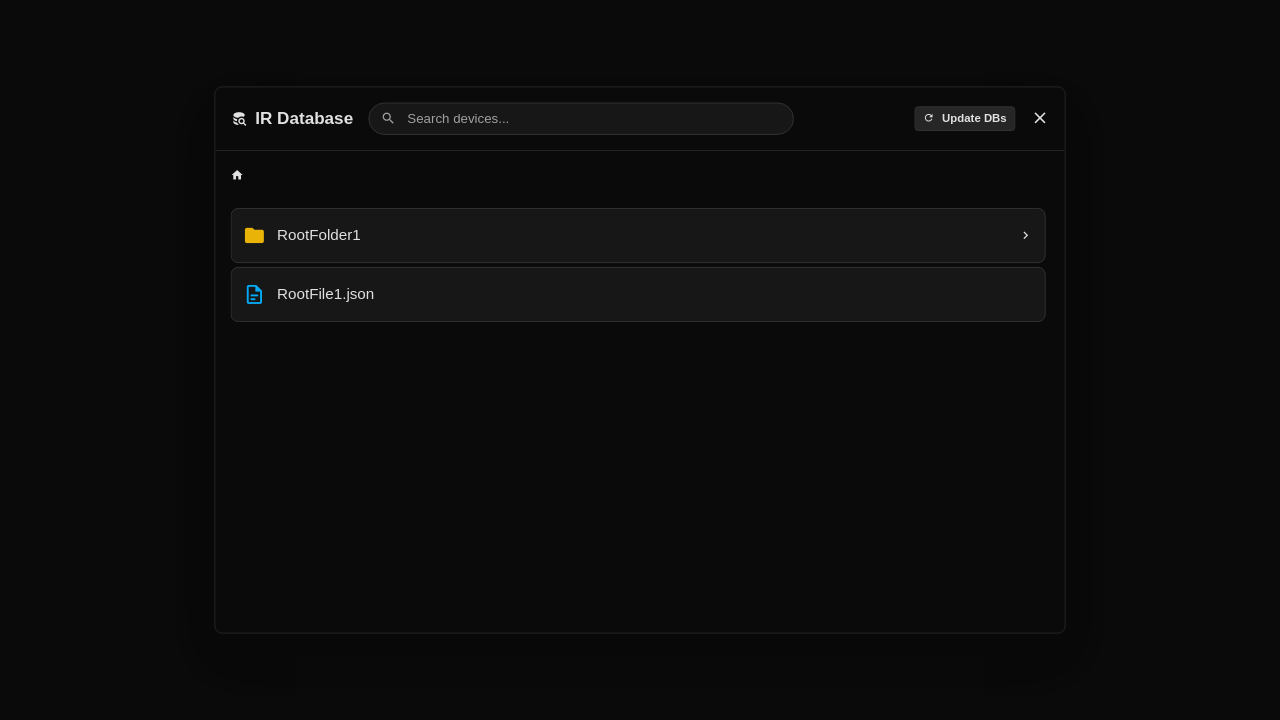
Test: IrDbPicker.vue › updates the path when a file is opened from search results
The width and height of the screenshot is (1280, 720).
Note: Perform a search
In the field with placeholder "Search devices...": (596, 119) x1=400 y1=104 x2=793 y2=134, type "myremote"
Wait 400 ms
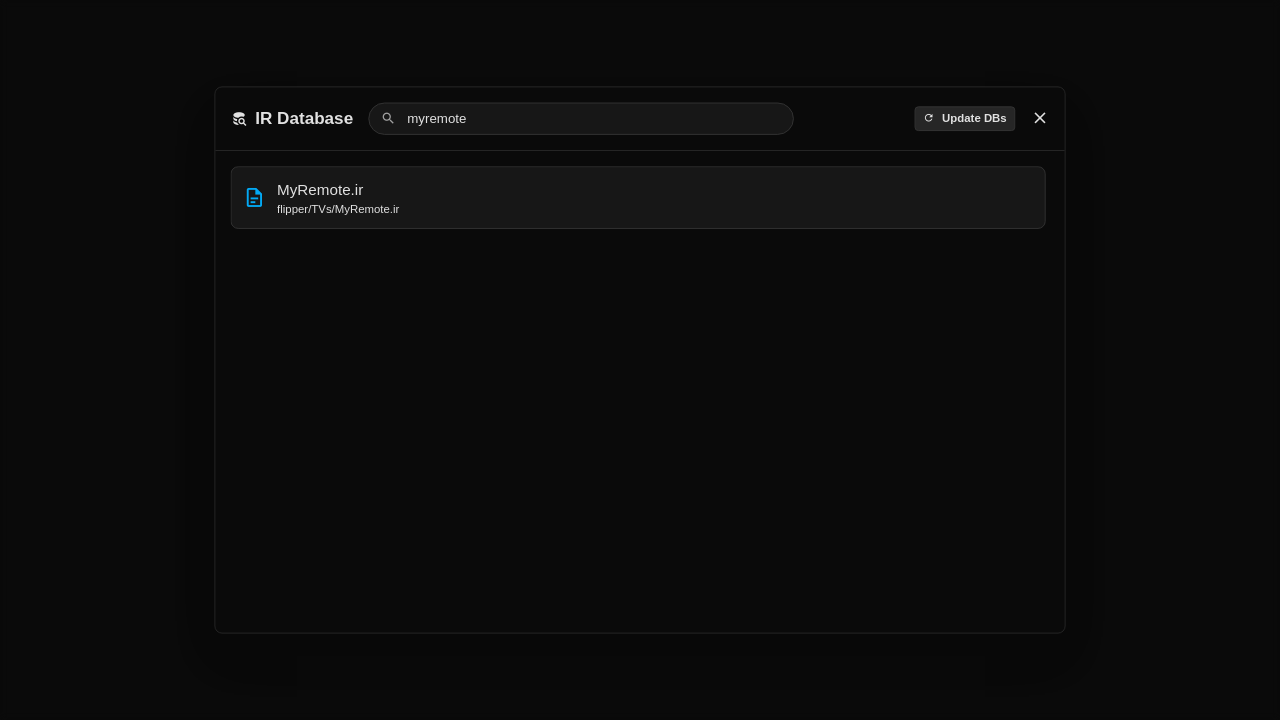
Expected: the text "MyRemote.ir" is shown, x1=277 y1=181 x2=363 y2=198
Note: Click the search result
Click the element with class "items-center" that starts with "MyRemote.ir": (638, 198) x1=230 y1=166 x2=1046 y2=229
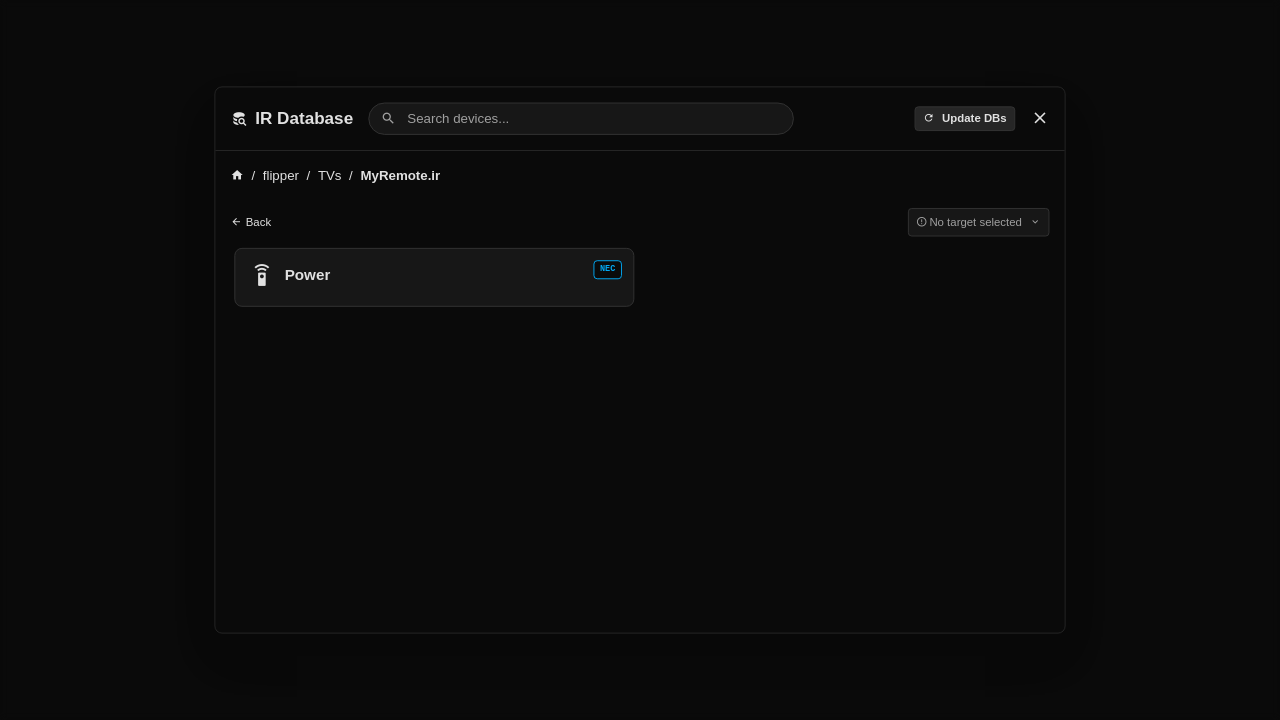
Expected: the field with placeholder "Search devices..." is empty, x1=400 y1=104 x2=793 y2=134
Expected: the text "Power" is shown, x1=285 y1=264 x2=330 y2=287
Expected: the element with class "mb-4" shows "flipper", x1=263 y1=166 x2=299 y2=185
